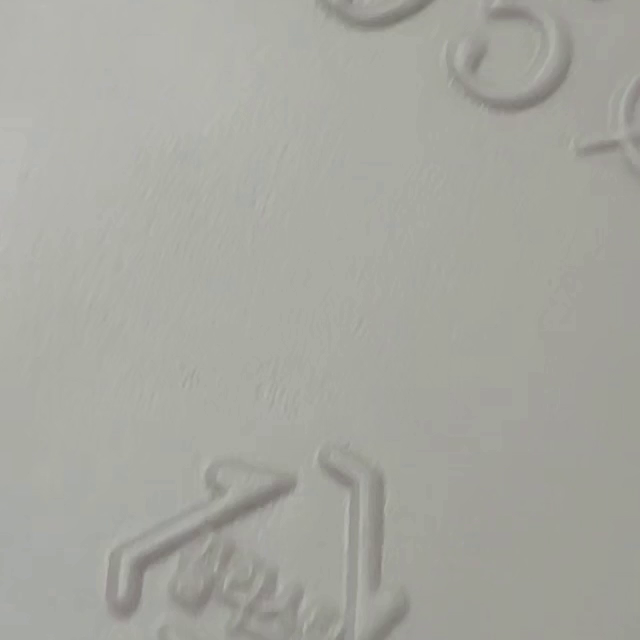Plastic: (105, 443, 409, 638)
